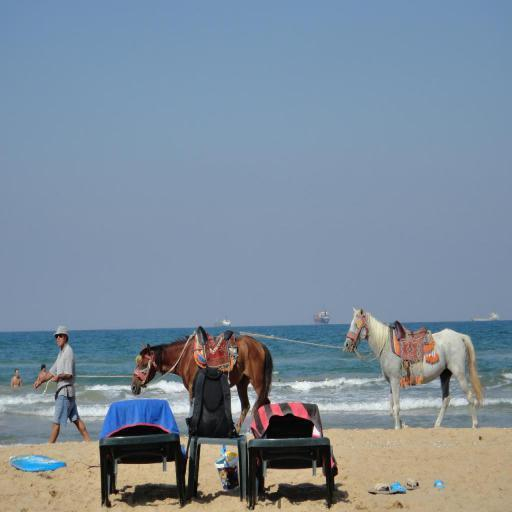horse: (340, 307, 484, 434), (130, 336, 274, 432)
